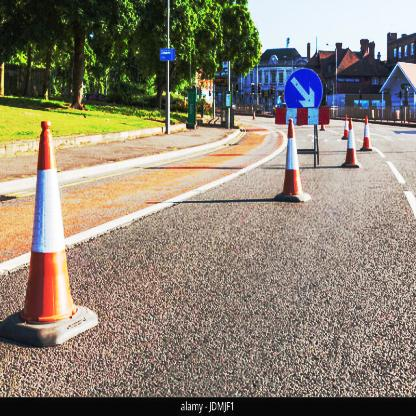Keep right: (281, 66, 327, 116)
